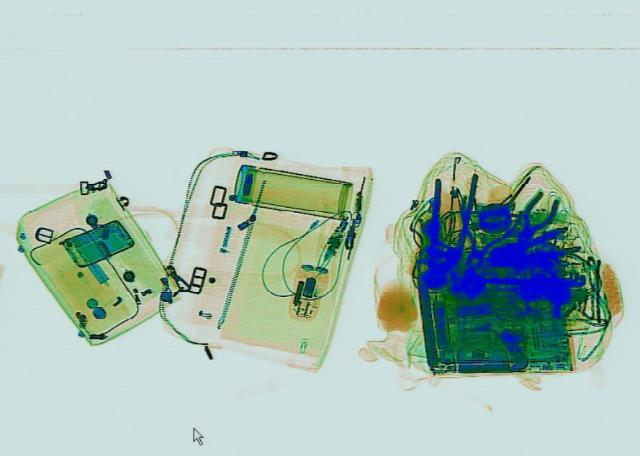Pliers: (434, 192, 528, 280), (420, 169, 480, 275), (476, 222, 582, 272), (502, 187, 568, 249)
